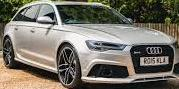Crossovers: (4, 4, 179, 89)
